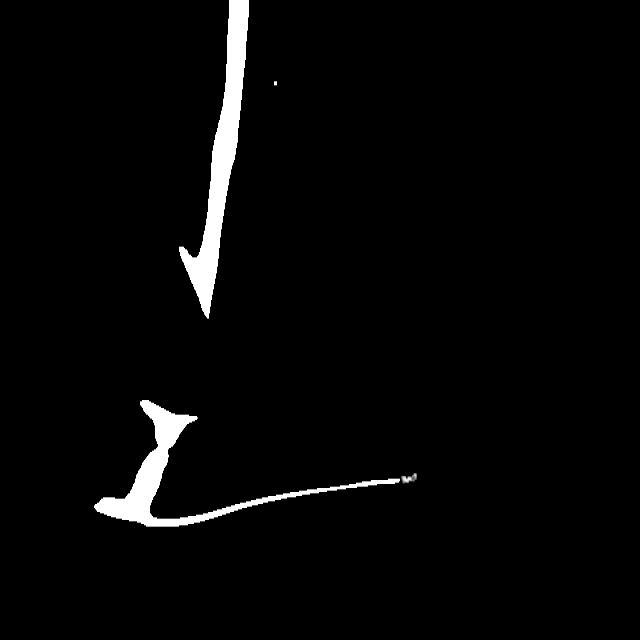stp: (384, 463, 444, 498)
